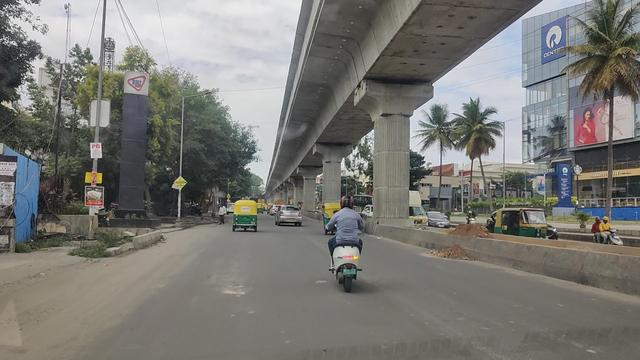LMV: (326, 186, 368, 295), (235, 199, 262, 230)
